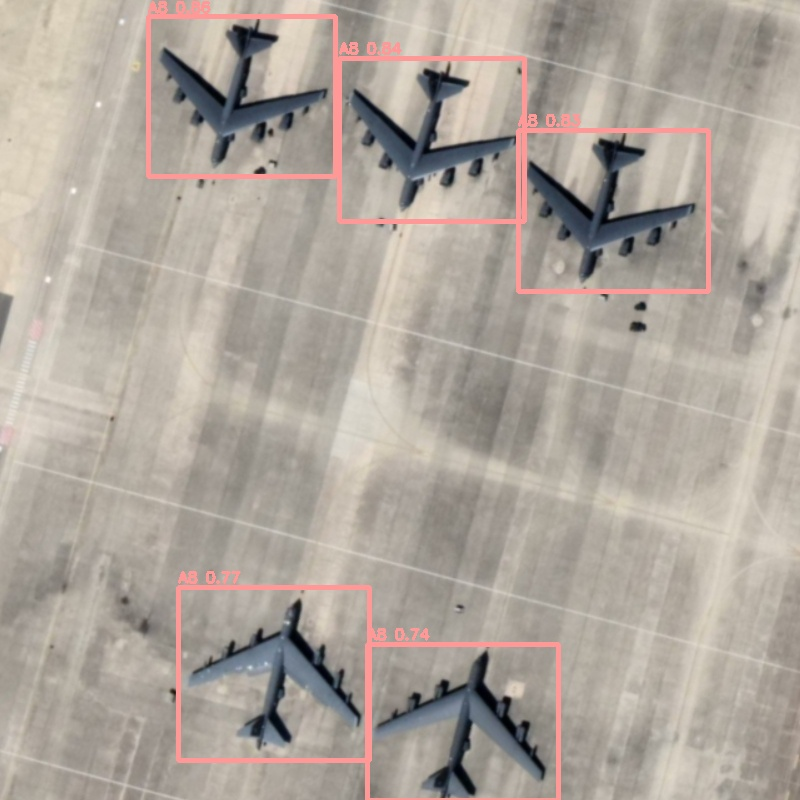A8: (178, 587, 369, 760), (518, 130, 708, 291), (339, 58, 524, 221), (148, 16, 335, 176), (367, 644, 558, 800)
